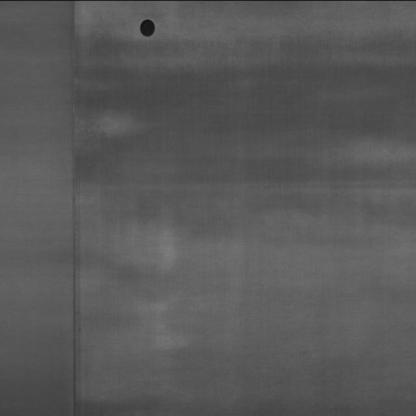punching_hole: (136, 16, 162, 40)
welding_line: (60, 2, 88, 415)
